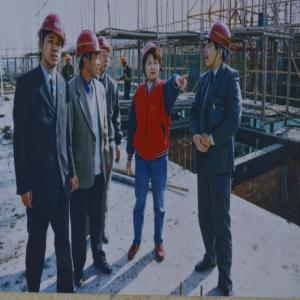red: (37, 13, 66, 67), (205, 24, 232, 66), (76, 31, 100, 77), (142, 43, 163, 83), (98, 37, 113, 73)
yellow: (122, 56, 128, 70), (65, 54, 71, 66)
